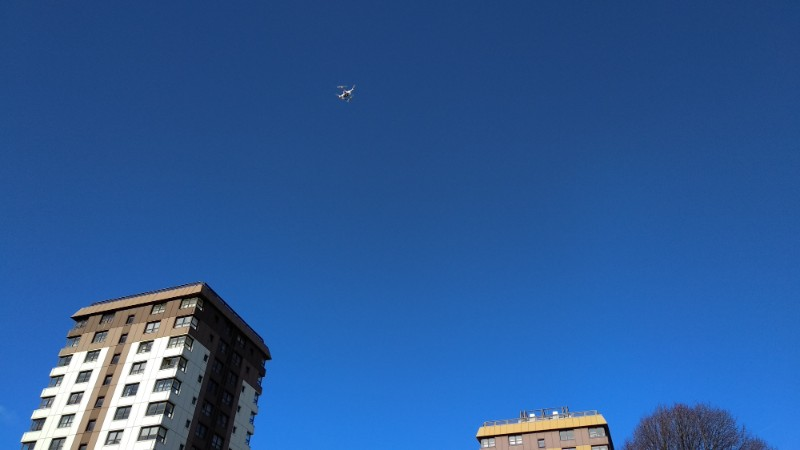drone: (334, 81, 355, 104)
